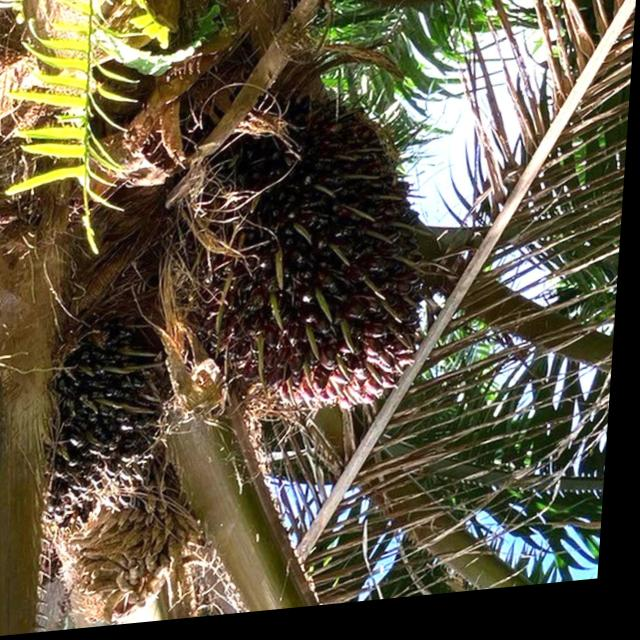ripe: (219, 97, 436, 426)
